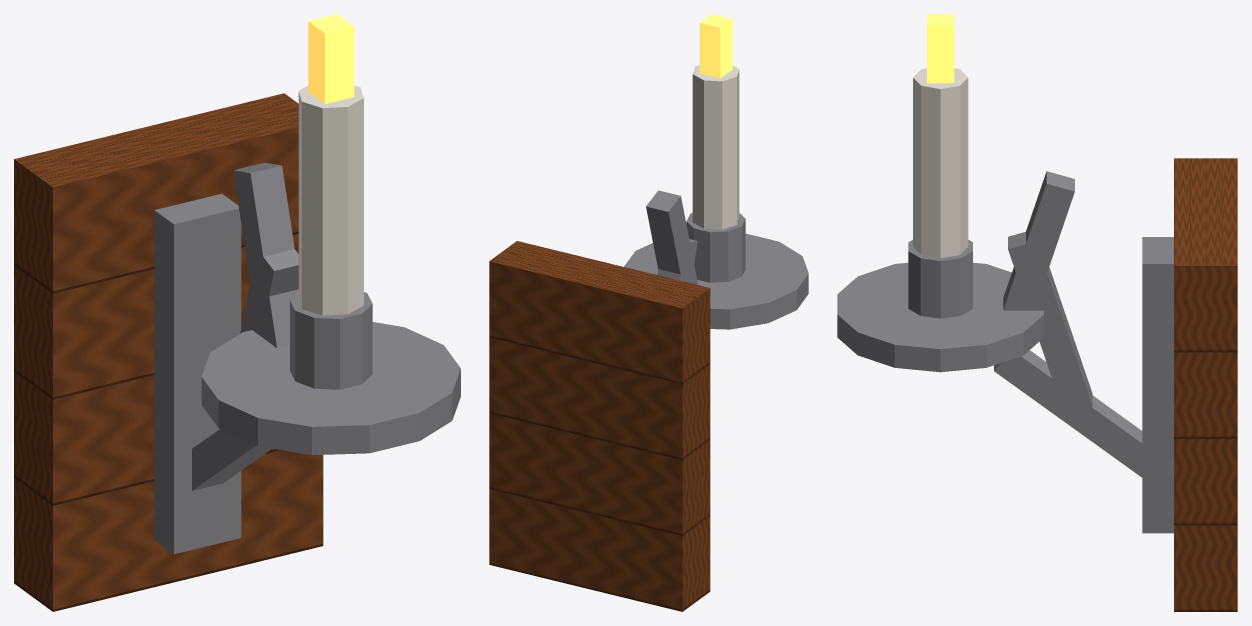
Rendered from wall-candle-sconce-0-3-m.glb.
3 views of the same model, side by side, from view 1: azimuth 30°, elevation 25°; view 2: azimuth 150°, elevation 25°; view 3: azimuth 270°, elevation 25° (orthographic). The views are drawn at different scales.
Visible parts, largest first — view 1: blacksmith-forge-and-armoury-candle-sconce; view 2: blacksmith-forge-and-armoury-candle-sconce; view 3: blacksmith-forge-and-armoury-candle-sconce.
Part boxes in pixels (x1,y1,x2,y2): blacksmith-forge-and-armoury-candle-sconce: (14,14,460,611); blacksmith-forge-and-armoury-candle-sconce: (489,14,808,611); blacksmith-forge-and-armoury-candle-sconce: (837,14,1237,611).
Bounding box in the file's own units: 0.12 × 0.28 × 0.1887.
Materials: 4 (1 with a texture image).
